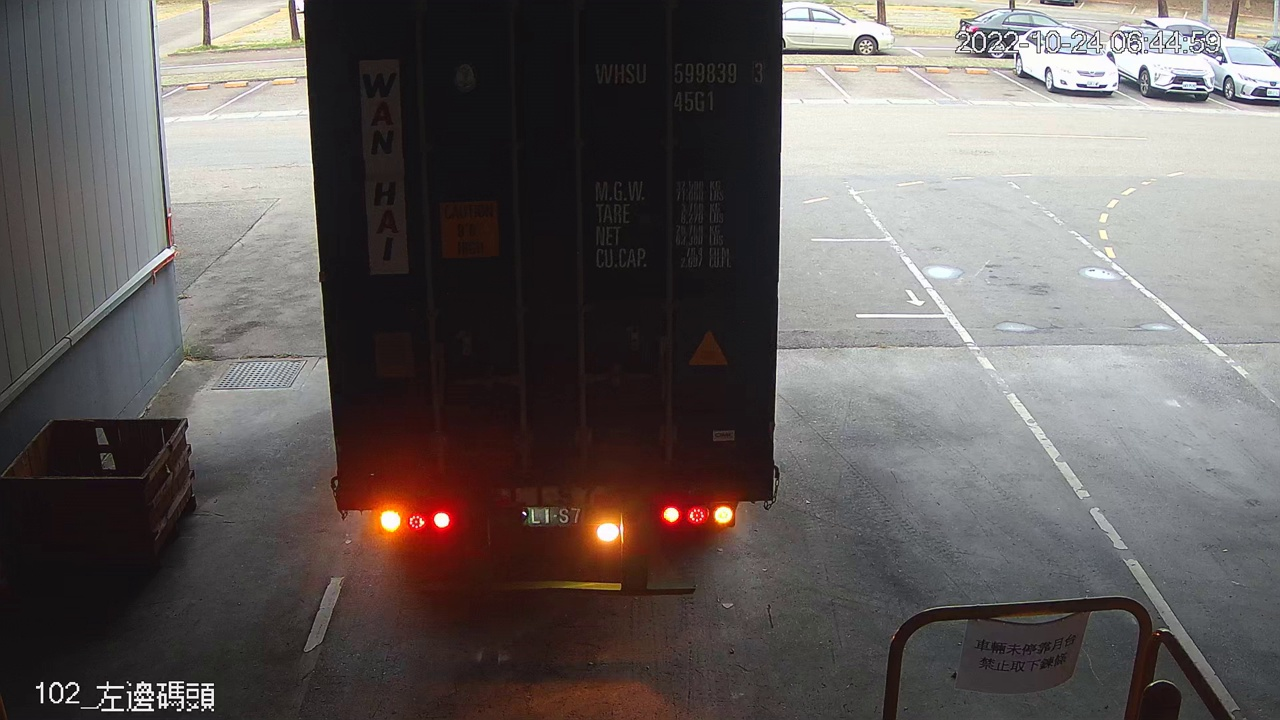container: (585, 51, 772, 118)
